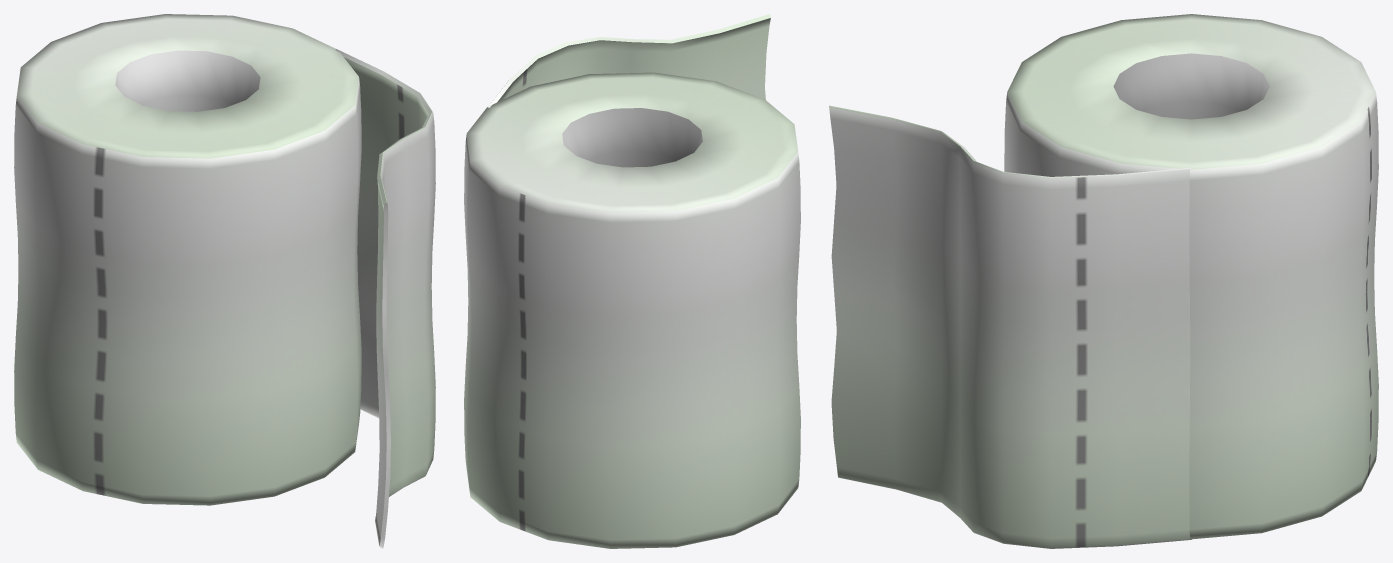
The model's file is Toilet Paper (Textured) (2019_09_06 16_57_56 UTC).fbx.
The picture shows the model from 3 angles, left to right: view 1: azimuth 30°, elevation 25°; view 2: azimuth 150°, elevation 25°; view 3: azimuth 270°, elevation 25°; orthographic projection. The views are drawn at different scales.
Visible parts, largest first — view 1: Toilet Paper; view 2: Toilet Paper; view 3: Toilet Paper.
Boxes of the visible parts, x1,y1,x2,y2 form: Toilet Paper: (14, 14, 435, 548); Toilet Paper: (464, 14, 800, 548); Toilet Paper: (829, 14, 1378, 548).
Size of the model in its own units: 25.88 by 27.45 by 35.96.
Materials: 1 (1 with a texture image).
